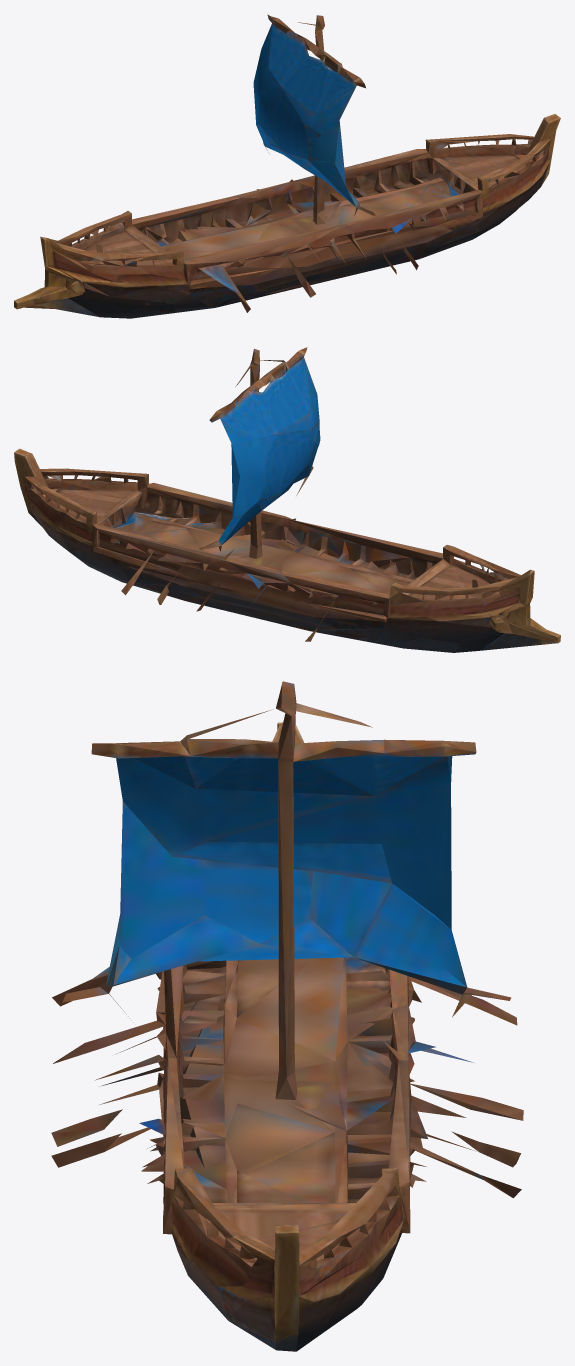
File: galley.glb
The picture shows the model from 3 angles, top to bottom: view 1: azimuth 30°, elevation 25°; view 2: azimuth 150°, elevation 25°; view 3: azimuth 270°, elevation 25°; orthographic projection. The views are drawn at different scales.
Bounding box in the file's own units: 1.9 × 0.834 × 0.7157.
1 material, 1 textured.
